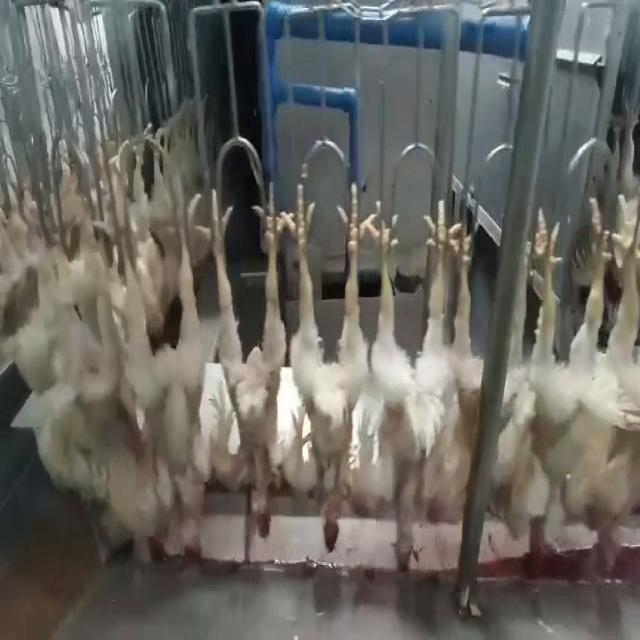chicken: (499, 196, 614, 582), (376, 186, 463, 578), (120, 177, 209, 547), (290, 168, 372, 560), (210, 177, 286, 546), (424, 200, 505, 529), (598, 191, 639, 577)
